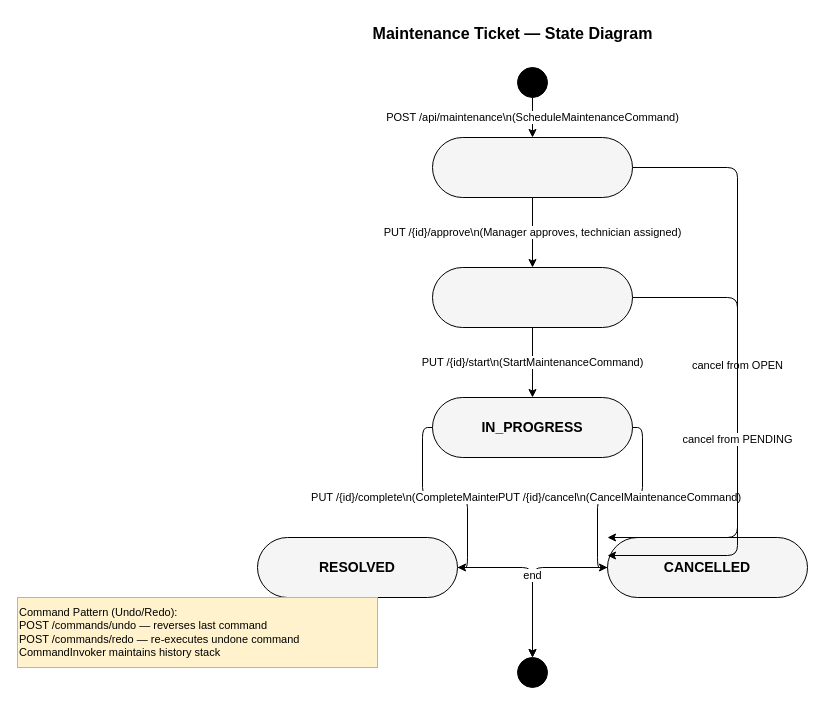
The diagram is 825 pixels wide and 705 high, and some of its shapes have lost their labels. The centre of each missing label's shape, as x and y in pixels:
OPEN: pixel 532 167
PENDING: pixel 532 297
